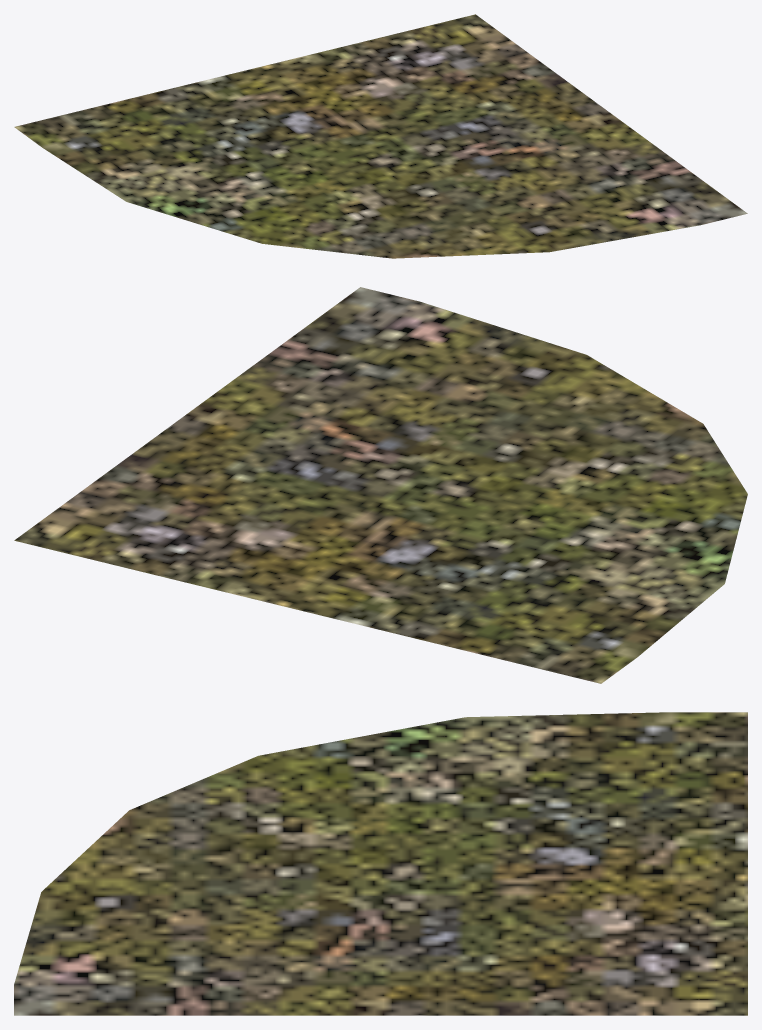
The model's file is Emb_BalconyPlanter_Dirt_02.FBX.
3 views of the same model, one above another, from view 1: azimuth 30°, elevation 25°; view 2: azimuth 150°, elevation 25°; view 3: azimuth 270°, elevation 25° (orthographic). The views are drawn at different scales.
Visible parts, largest first — view 1: Emb_BalconyPlanter_Dirt_02; view 2: Emb_BalconyPlanter_Dirt_02; view 3: Emb_BalconyPlanter_Dirt_02.
Part boxes in pixels (x1,y1,x2,y2): Emb_BalconyPlanter_Dirt_02: (14, 14, 747, 258); Emb_BalconyPlanter_Dirt_02: (14, 287, 747, 683); Emb_BalconyPlanter_Dirt_02: (14, 712, 747, 1015).
Bounding box in the file's own units: 1.56 × 4.44e-16 × 1.59.
